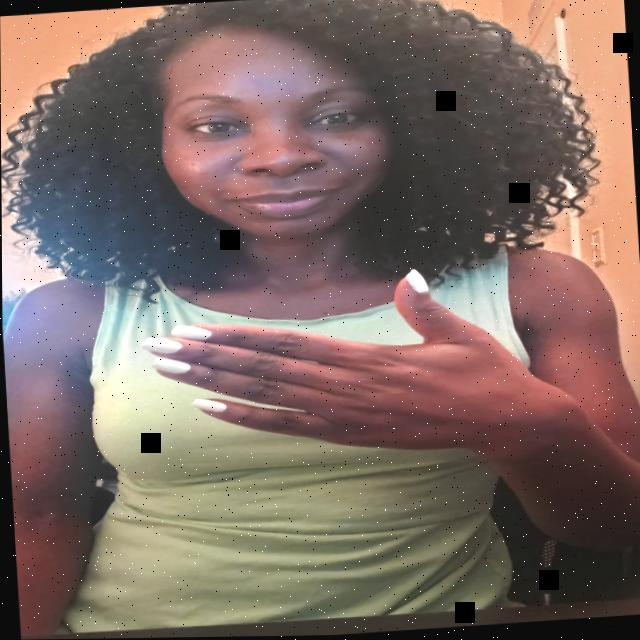Paper: (138, 247, 584, 477)
